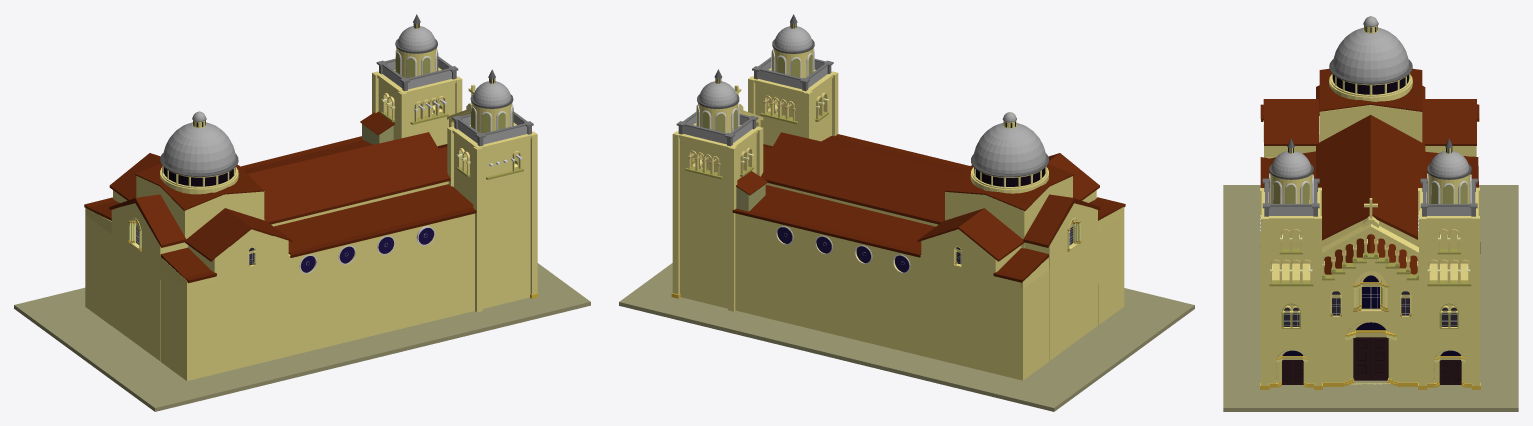
File: lourdeschurch1.glb
3 renders of one model, left to right at view 1: azimuth 30°, elevation 25°; view 2: azimuth 150°, elevation 25°; view 3: azimuth 270°, elevation 25°, orthographic. The views are drawn at different scales.
Parts seen in each view (by area): view 1: Tower 2.001, Cube, Cube.328, Cube.063, Cube.560, Tower 2, Sphere.002, Cube.333, Cube.563, Cube.364, Cube.334, Cube.139 (+11 smaller); view 2: Tower 2, Cube, Cube.328, Cube.063, Cube.329, Tower 2.001, Sphere.002, Cube.333, Cube.332, Cube.364, Cube.334, Cube.560 (+10 smaller); view 3: Cube, Cube.328, Front.001, Tower 2.001, Tower 2, Sphere.002, Cube.563, Cube.332, Cube.333, Cube.334, Cube.454, Cube.004 (+27 smaller).
Boxes of the visible parts, x1=… form: Tower 2.001: x1=160, y1=134, x2=530, y2=380; Cube: x1=14, y1=263, x2=590, y2=411; Cube.328: x1=248, y1=132, x2=450, y2=224; Cube.063: x1=111, y1=181, x2=448, y2=361; Cube.560: x1=274, y1=184, x2=476, y2=257; Tower 2: x1=85, y1=79, x2=455, y2=325; Sphere.002: x1=162, y1=122, x2=235, y2=173; Cube.333: x1=136, y1=176, x2=264, y2=247; Cube.563: x1=185, y1=208, x2=292, y2=261; Cube.364: x1=109, y1=194, x2=186, y2=247; Cube.334: x1=135, y1=163, x2=263, y2=210; Cube.139: x1=473, y1=146, x2=482, y2=312; Tower 2: x1=680, y1=134, x2=1049, y2=380; Cube: x1=619, y1=263, x2=1194, y2=411; Cube.328: x1=760, y1=132, x2=961, y2=224; Cube.063: x1=765, y1=183, x2=1097, y2=360; Cube.329: x1=732, y1=185, x2=935, y2=257; Tower 2.001: x1=755, y1=79, x2=1124, y2=325; Sphere.002: x1=973, y1=122, x2=1046, y2=173; Cube.333: x1=945, y1=176, x2=1072, y2=248; Cube.332: x1=917, y1=208, x2=1024, y2=261; Cube.364: x1=1023, y1=194, x2=1100, y2=247; Cube.334: x1=945, y1=164, x2=1073, y2=210; Cube.560: x1=821, y1=134, x2=969, y2=173; Cube: x1=1223, y1=185, x2=1518, y2=411; Cube.328: x1=1316, y1=115, x2=1425, y2=240; Front.001: x1=1322, y1=230, x2=1418, y2=384; Tower 2.001: x1=1264, y1=116, x2=1319, y2=383; Tower 2: x1=1425, y1=146, x2=1476, y2=383; Sphere.002: x1=1332, y1=27, x2=1409, y2=81; Cube.563: x1=1263, y1=99, x2=1319, y2=145; Cube.332: x1=1422, y1=99, x2=1476, y2=145; Cube.333: x1=1319, y1=105, x2=1422, y2=142; Cube.334: x1=1319, y1=68, x2=1422, y2=111; Cube.454: x1=1353, y1=337, x2=1388, y2=380; Cube.004: x1=1472, y1=216, x2=1479, y2=385.
Bounding box in the file's own units: 43.32 × 21.75 × 24.27.
